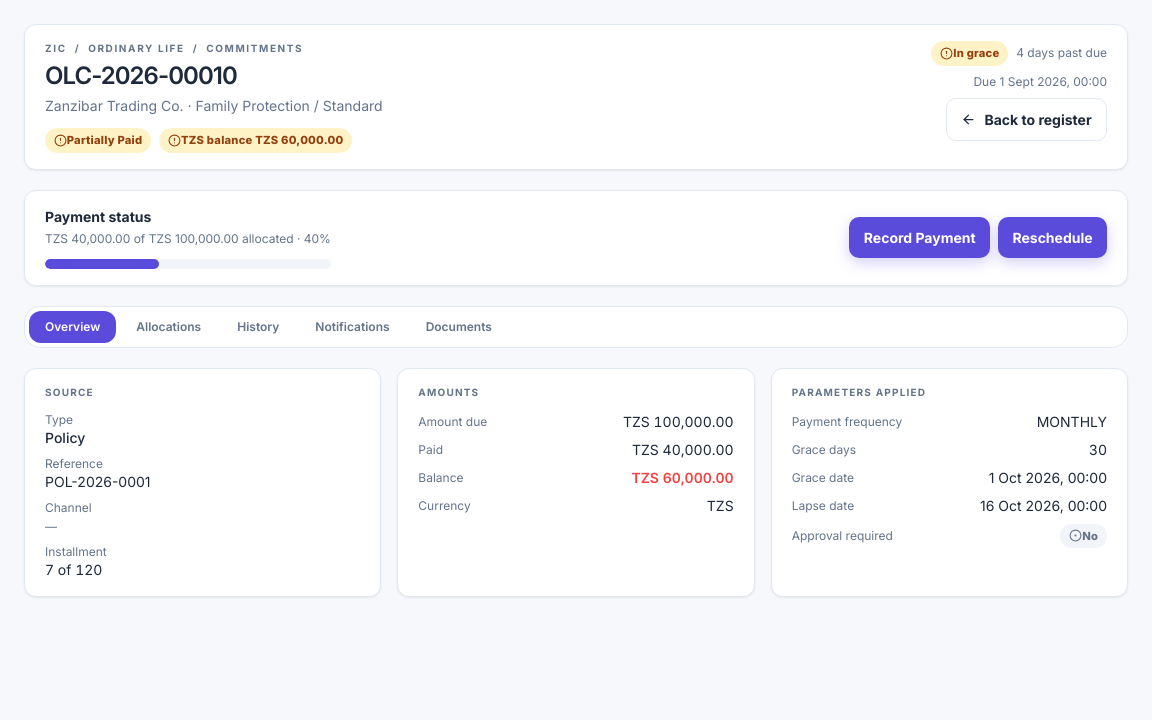
Test case: CommitmentDetailPage › renders the history tab with actors and reasons
Expected: the heading "OLC-2026-00010" is shown, [45,61,237,90]
Click the button "History" at (258,327), box [221,311,295,343]
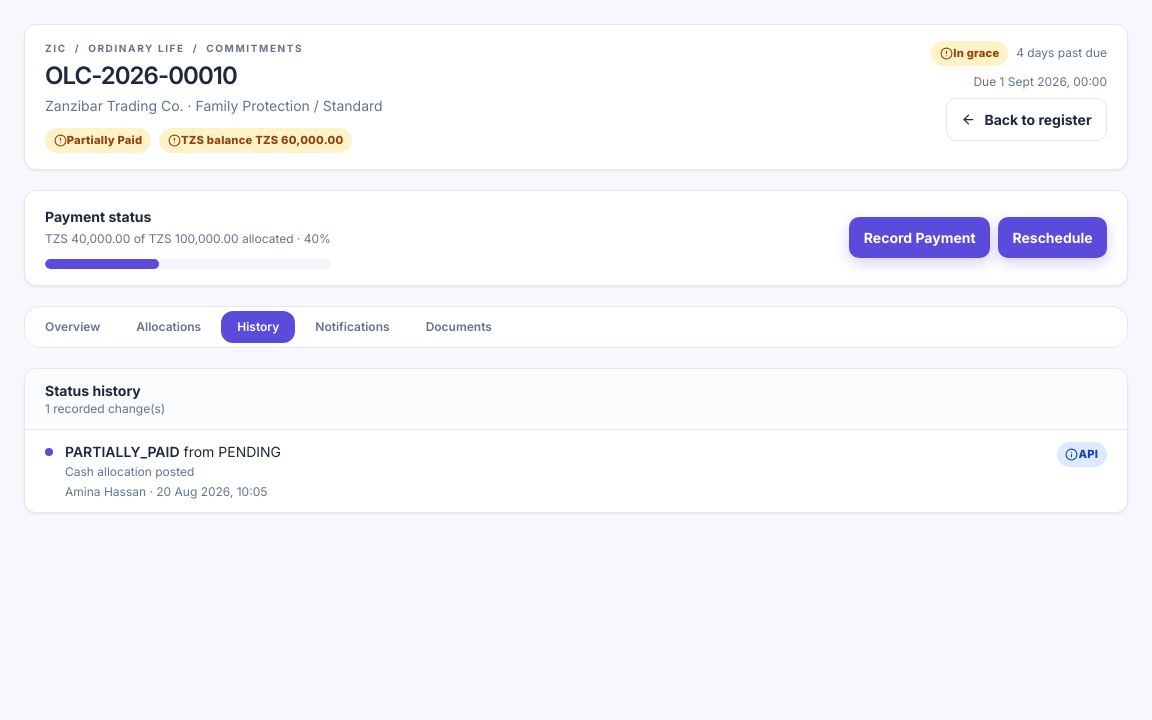
Expected: the text "PARTIALLY_PAID" is shown, [65,443,180,460]
Expected: the text "Amina Hassan · 20 Aug 2026, 10:05" is shown, [65,484,267,499]
Expected: the text "Cash allocation posted" is shown, [65,464,194,479]
